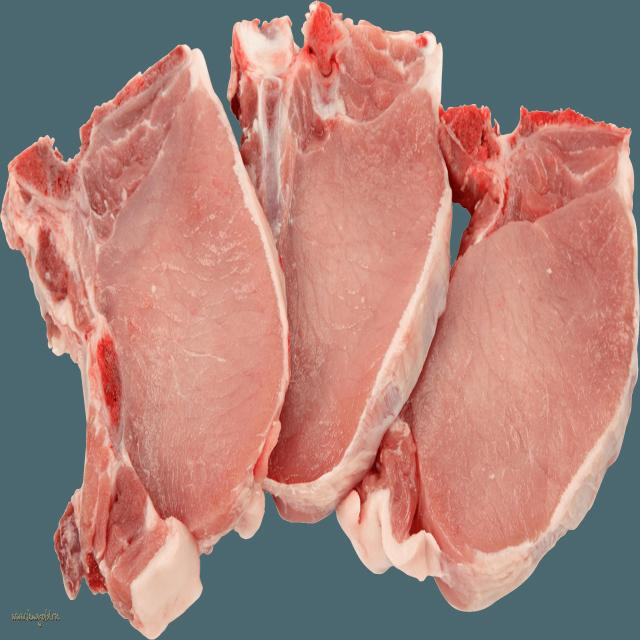Pork: (0, 53, 292, 640), (334, 99, 640, 617), (230, 12, 457, 532)
